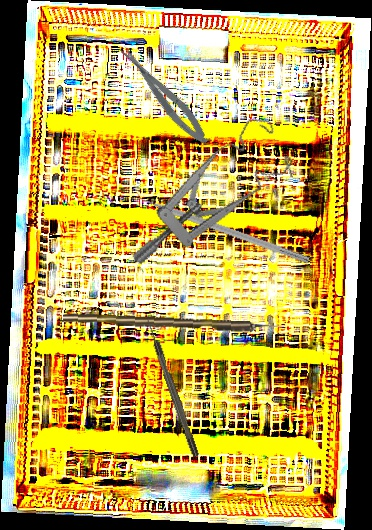Chopper: (128, 182, 314, 264)
Hook Surgical: (144, 317, 200, 459), (62, 311, 285, 335)
Micro Scissor: (114, 37, 214, 151)
Speculum: (103, 110, 309, 267)
